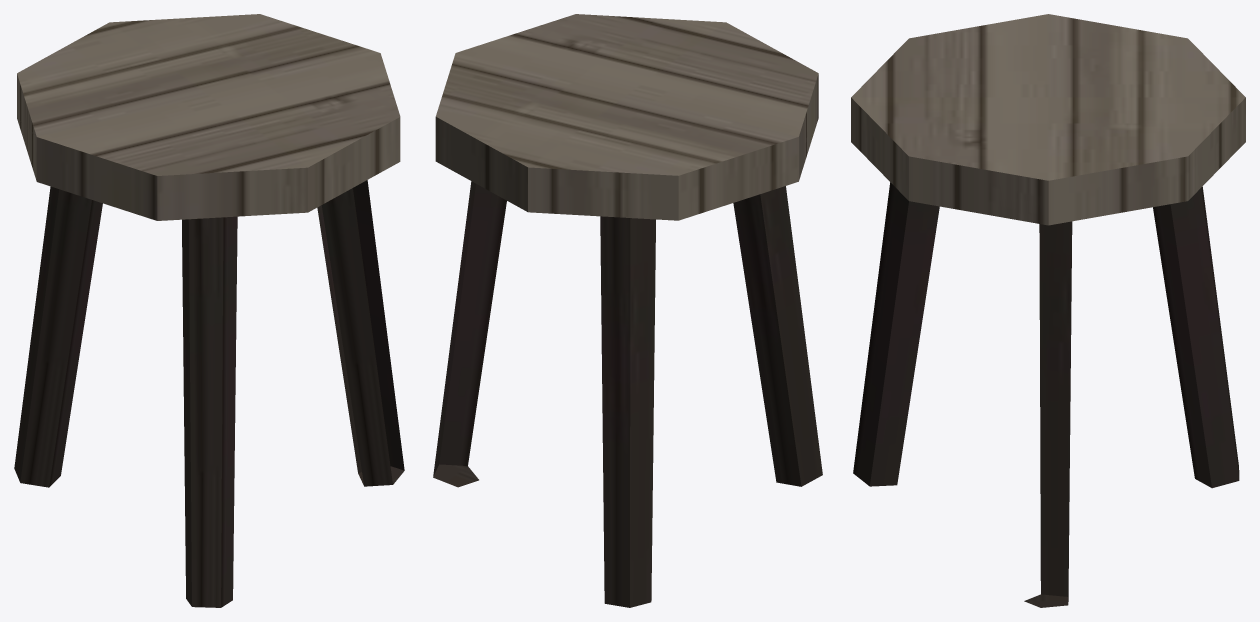
The model's file is stool_01.glb.
The picture shows the model from 3 angles, left to right: view 1: azimuth 30°, elevation 25°; view 2: azimuth 150°, elevation 25°; view 3: azimuth 270°, elevation 25°; orthographic projection.
Visible parts, largest first — view 1: stool_01; view 2: stool_01; view 3: stool_01.
Boxes of the visible parts, x1,y1,x2,y2 form: stool_01: (14, 14, 404, 607); stool_01: (433, 14, 822, 607); stool_01: (851, 14, 1245, 607).
Bounding box in the file's own units: 0.4235 × 0.4735 × 0.4.
Materials: 2 (2 with a texture image).
